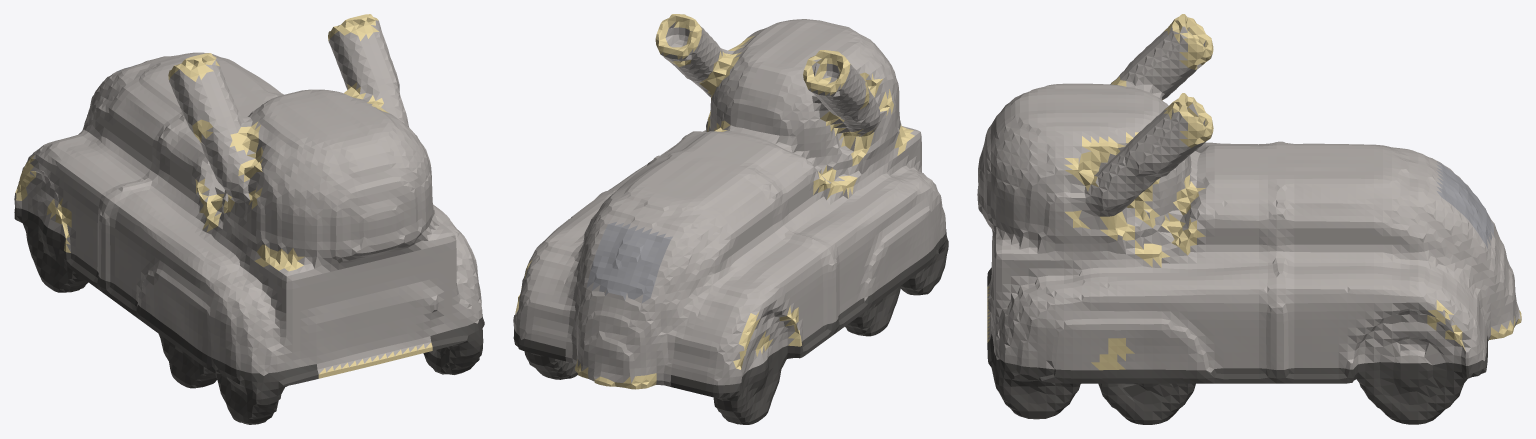
Rendered from unit_ion_carriage.glb.
The picture shows the model from 3 angles, left to right: view 1: azimuth 30°, elevation 25°; view 2: azimuth 150°, elevation 25°; view 3: azimuth 270°, elevation 25°; orthographic projection. The views are drawn at different scales.
Visible parts, largest first — view 1: Mesh_0.050; view 2: Mesh_0.050; view 3: Mesh_0.050.
Boxes of the visible parts, x1=… form: Mesh_0.050: x1=14, y1=14, x2=484, y2=424; Mesh_0.050: x1=513, y1=14, x2=948, y2=424; Mesh_0.050: x1=977, y1=14, x2=1521, y2=424.
Size of the model in its own units: 1.53 by 1.7 by 2.7.
